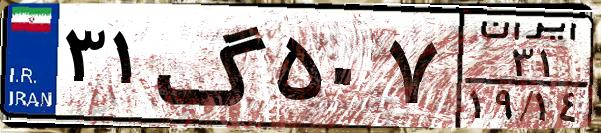0: (330, 28, 385, 110)
1: (110, 28, 156, 98), (537, 27, 568, 80), (470, 70, 495, 125), (535, 70, 560, 125)
3: (57, 26, 110, 100), (508, 27, 537, 80)
4: (560, 70, 590, 125)
5: (270, 28, 330, 110)
7: (385, 28, 445, 110)
9: (495, 70, 520, 125)
گ: (156, 12, 270, 120)
